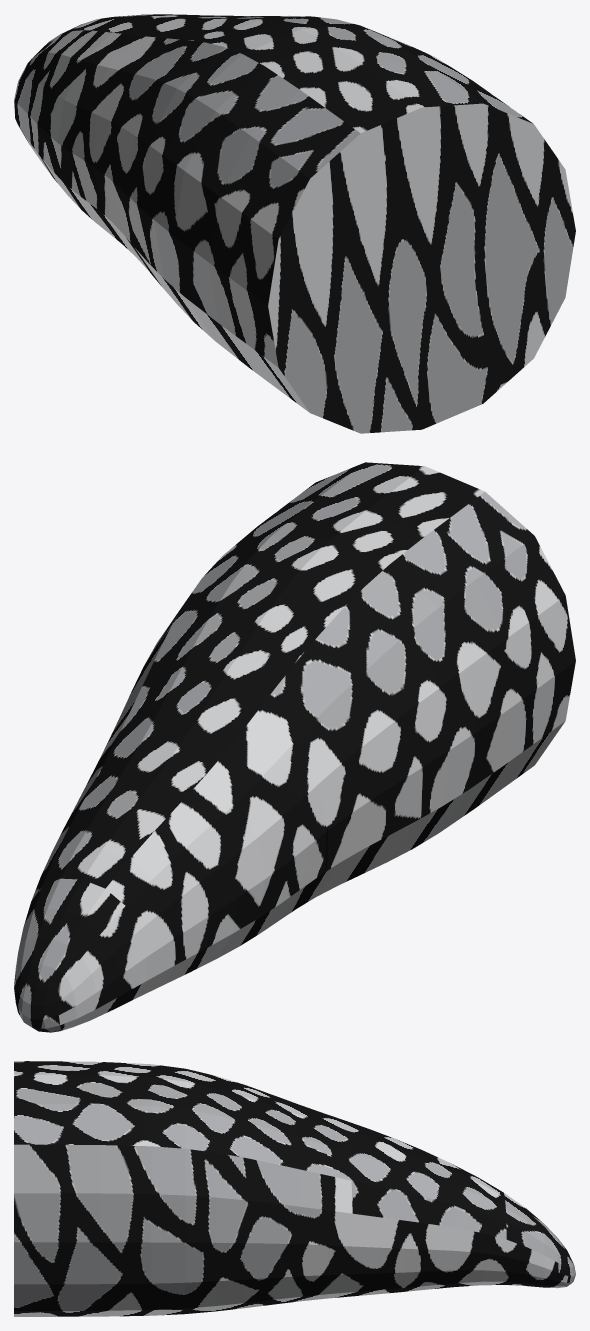
File: snek_tail_texture.gltf
The picture shows the model from 3 angles, top to bottom: view 1: azimuth 30°, elevation 25°; view 2: azimuth 150°, elevation 25°; view 3: azimuth 270°, elevation 25°; orthographic projection. The views are drawn at different scales.
Visible parts, largest first — view 1: Tail; view 2: Tail; view 3: Tail.
Part boxes in pixels (x1,y1,x2,y2): Tail: [14, 14, 575, 433]; Tail: [14, 462, 575, 1032]; Tail: [14, 1061, 575, 1316].
Size of the model in its own units: 4.67 by 4.67 by 10.37.
1 material, 1 textured.
